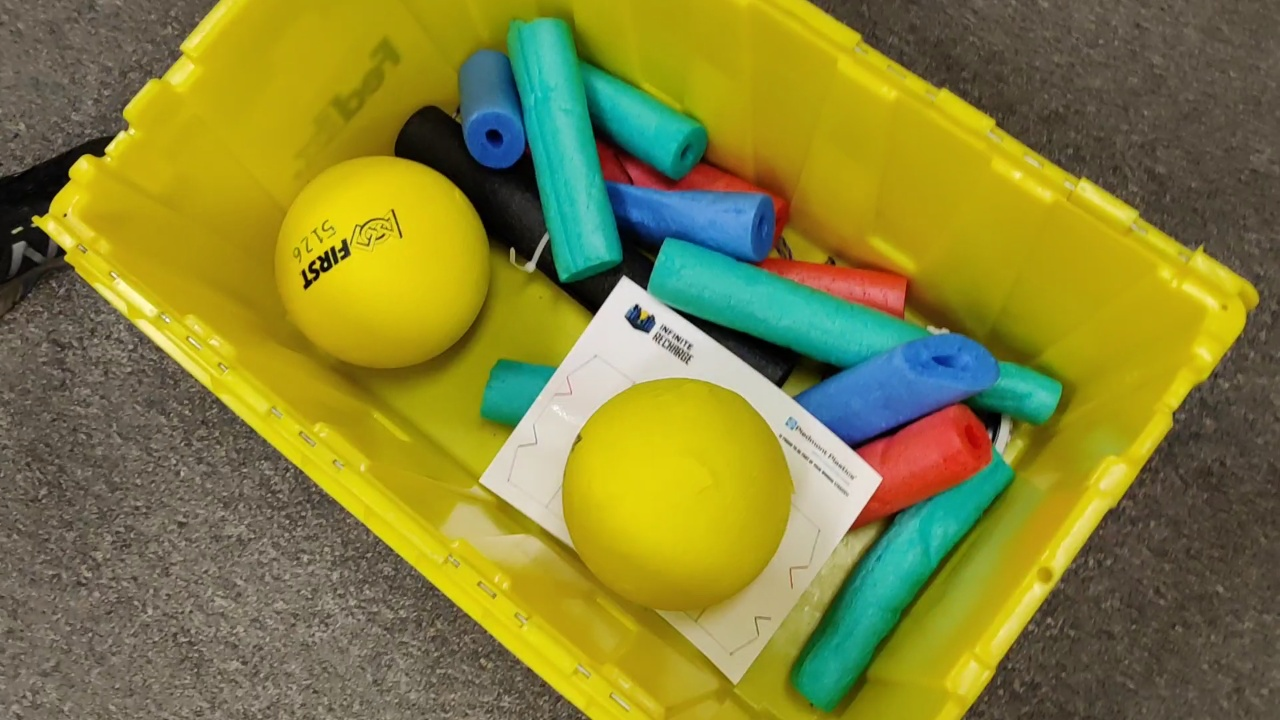Ball: (559, 378, 795, 611), (277, 154, 477, 371)
